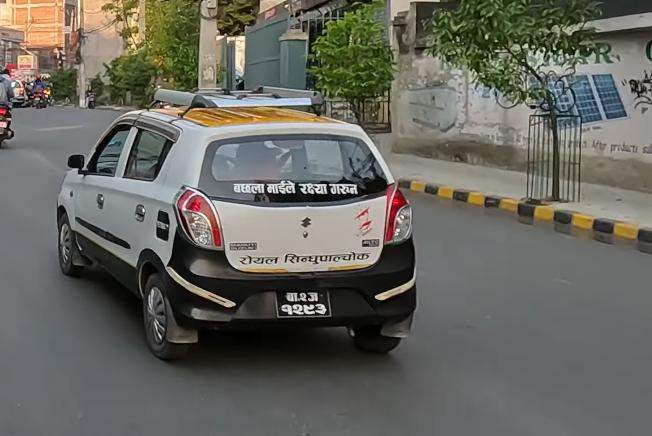taxi: (47, 72, 431, 376)
